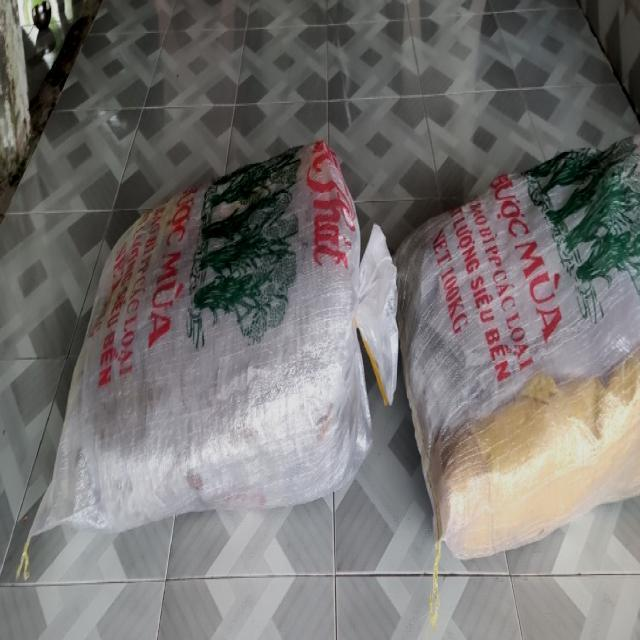gunny_bag: (30, 138, 398, 536), (396, 134, 640, 557)
